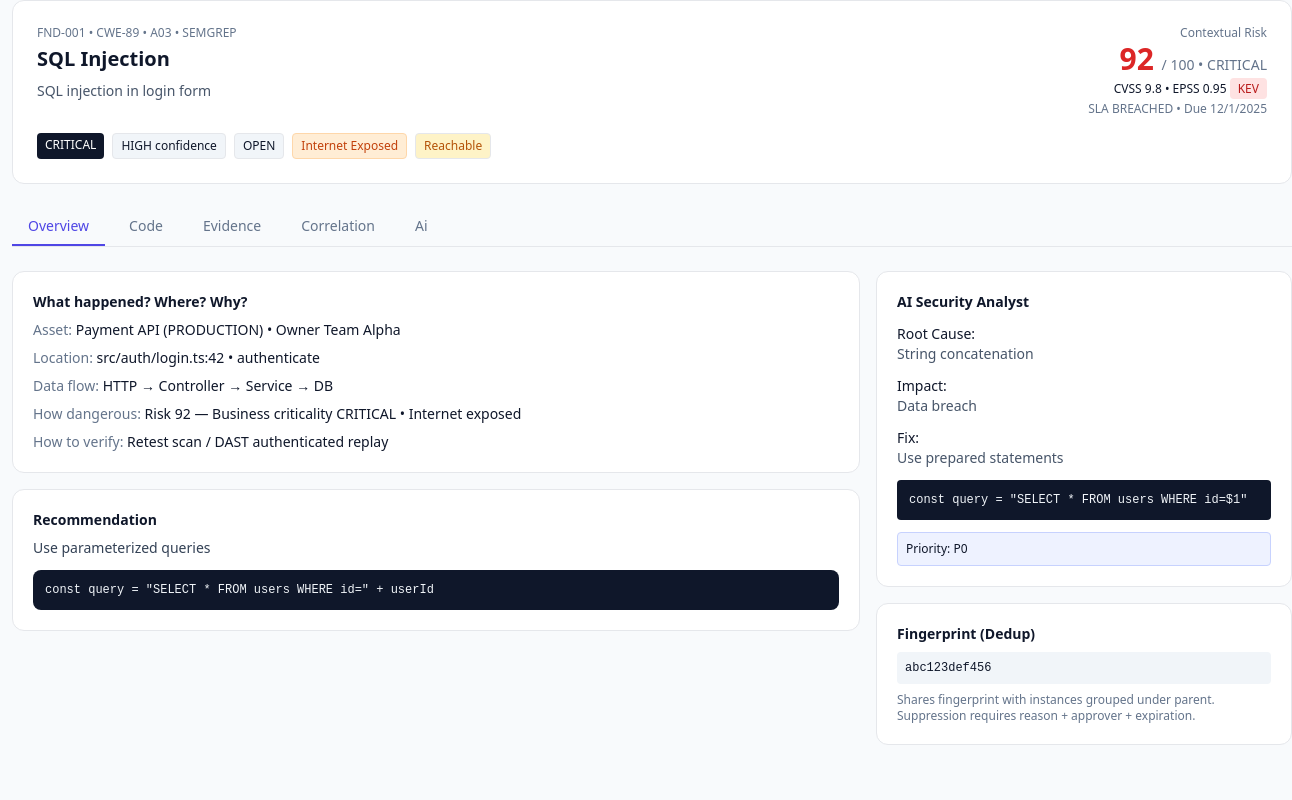
Test case: FindingDetail › switches to evidence tab on click
Expected: the heading "SQL Injection" is shown, [37,45,170,72]
Click the button "evidence" at (232, 227), box [187,208,277,246]
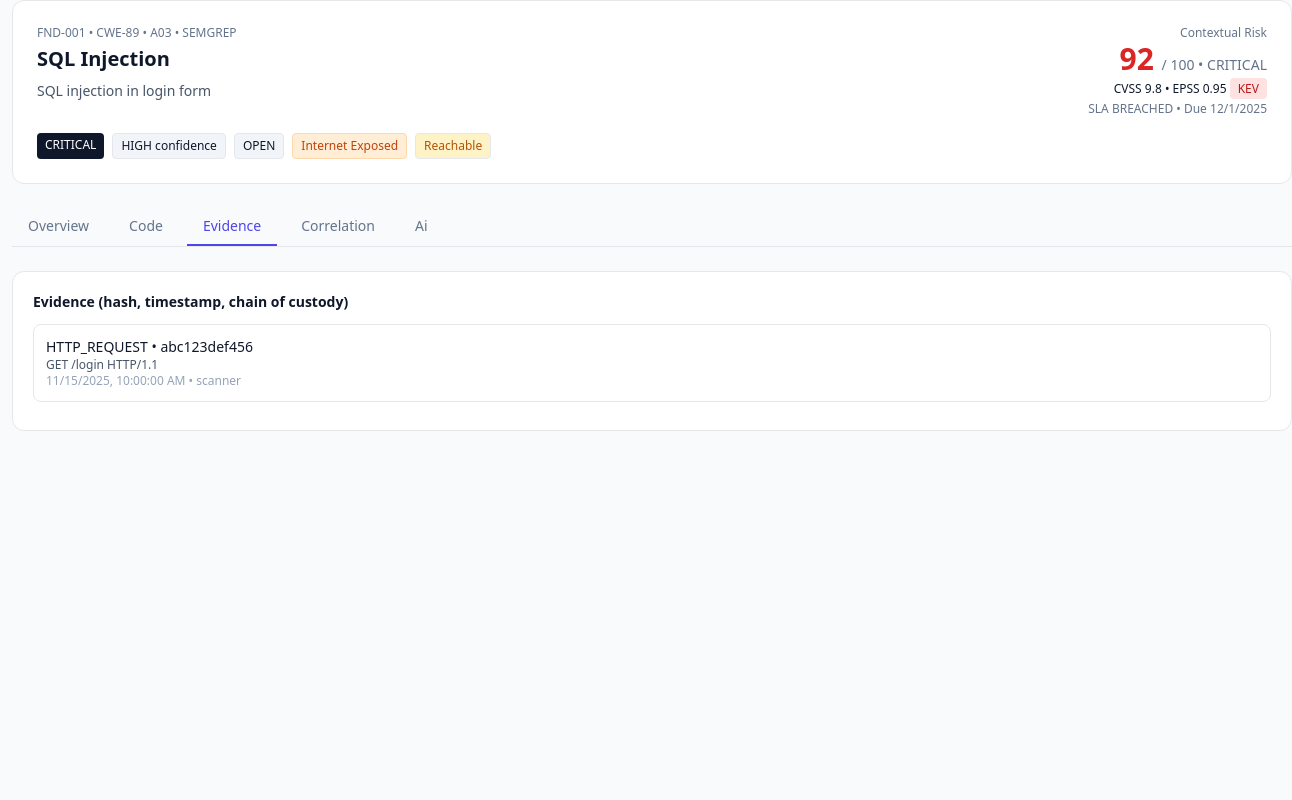
Expected: the heading "Evidence (hash, timestamp, chain of custody)" is shown, [33,292,348,311]
